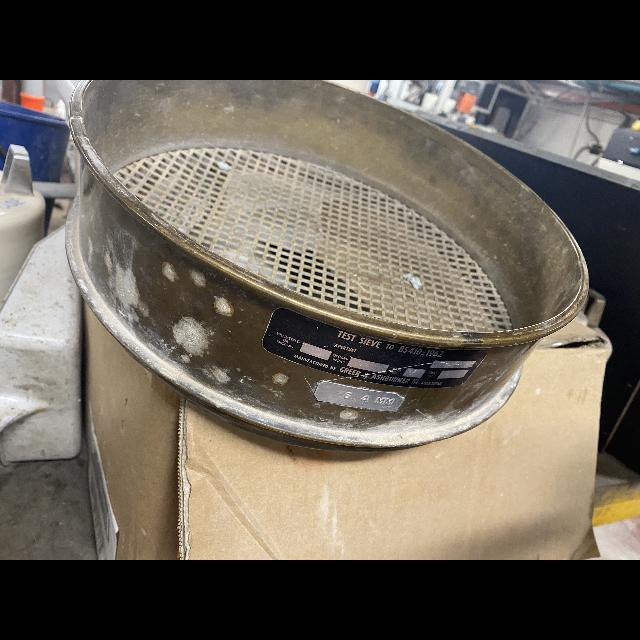Brass: (65, 80, 592, 449)
